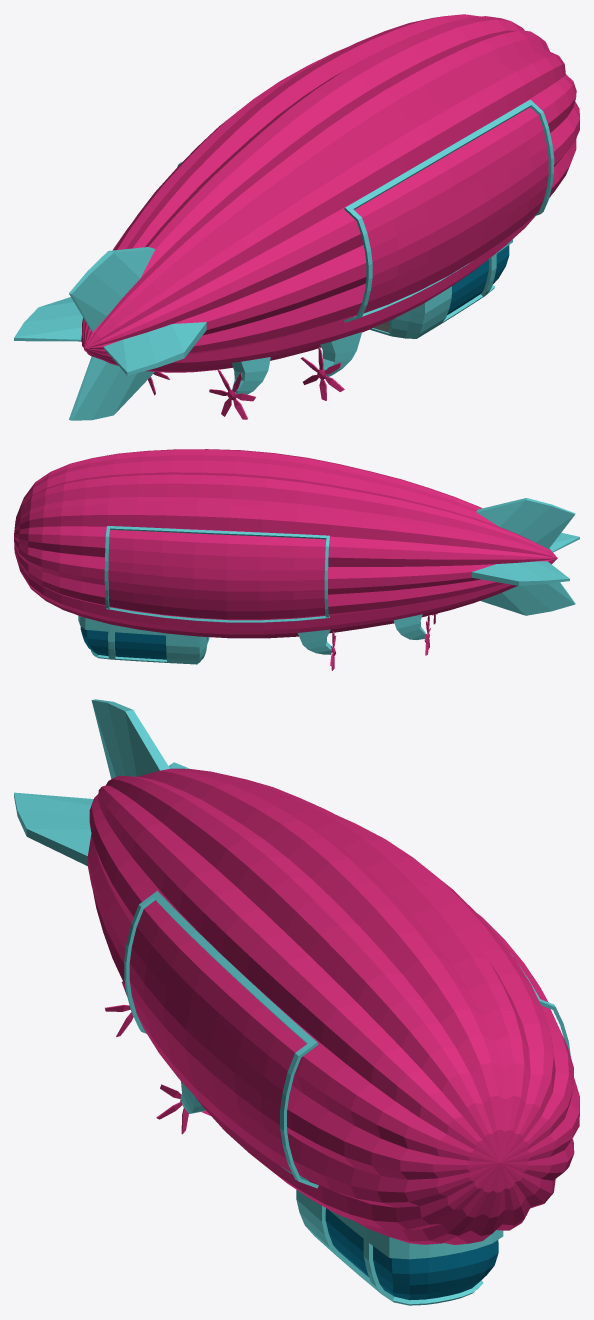
The model's file is airship.gltf.
3 renders of one model, top to bottom at view 1: azimuth 30°, elevation 25°; view 2: azimuth 150°, elevation 25°; view 3: azimuth 270°, elevation 25°, orthographic. The views are drawn at different scales.
Visible parts, largest first — view 1: baloon, cube2, wings, cabin_1, cube, sper, propeller4, propeller2; view 2: baloon, cube2, wings, cabin_1, cube1, sper; view 3: baloon, cube2, cabin_1, wings, cube.
Part boxes in pixels (left/top/right/bottom): baloon: left=81, top=14, right=579, bottom=372; cube2: left=354, top=107, right=548, bottom=313; wings: left=14, top=247, right=206, bottom=420; cabin_1: left=369, top=239, right=512, bottom=338; cube: left=344, top=99, right=554, bottom=322; sper: left=231, top=332, right=361, bottom=394; propeller4: left=209, top=369, right=255, bottom=419; propeller2: left=300, top=347, right=344, bottom=400; baloon: left=14, top=449, right=557, bottom=638; cube2: left=108, top=530, right=326, bottom=620; wings: left=471, top=498, right=579, bottom=615; cabin_1: left=78, top=616, right=209, bottom=664; cube1: left=104, top=526, right=329, bottom=622; sper: left=297, top=614, right=425, bottom=654; baloon: left=87, top=768, right=579, bottom=1244; cube2: left=129, top=900, right=548, bottom=1172; cabin_1: left=296, top=1190, right=503, bottom=1305; wings: left=14, top=699, right=189, bottom=865; cube: left=124, top=891, right=318, bottom=1188.
Size of the model in its own units: 7.24 by 2.87 by 4.28.
